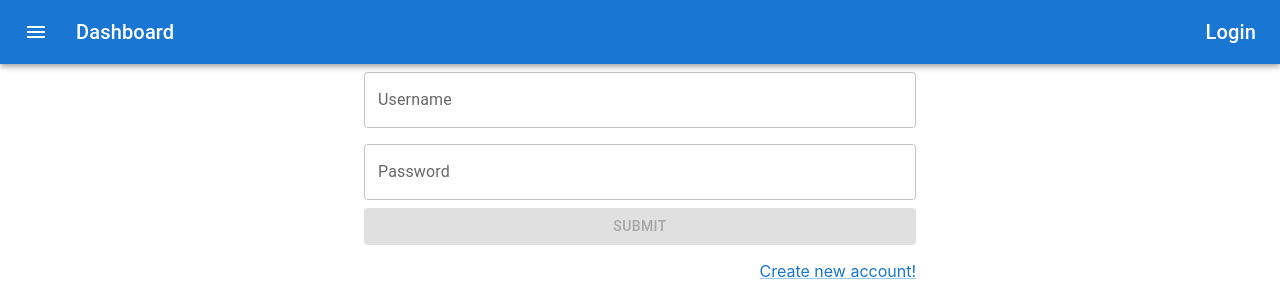
Test case: Login spec › Enable Login
Type "admin" into the field with id "username" at (640, 100), box [364,72,916,128]
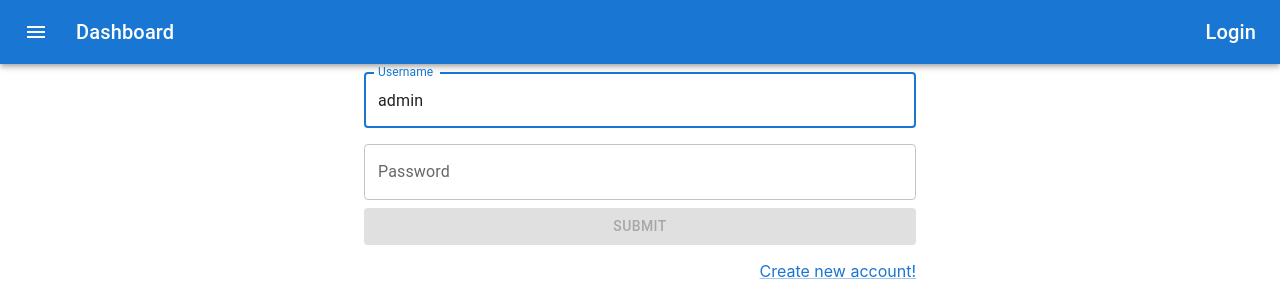
Type "admin123" into the password field labelled "Password" at (640, 172), box [364,144,916,200]
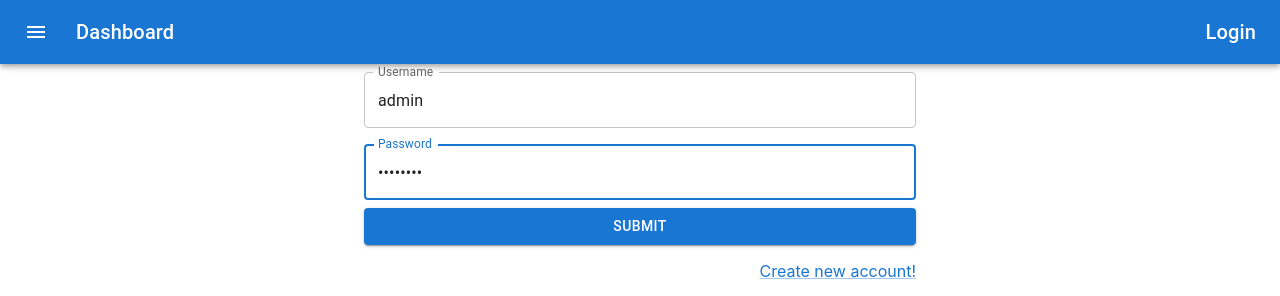
Expected: the button with id "login" is enabled, [364,208,916,245]
